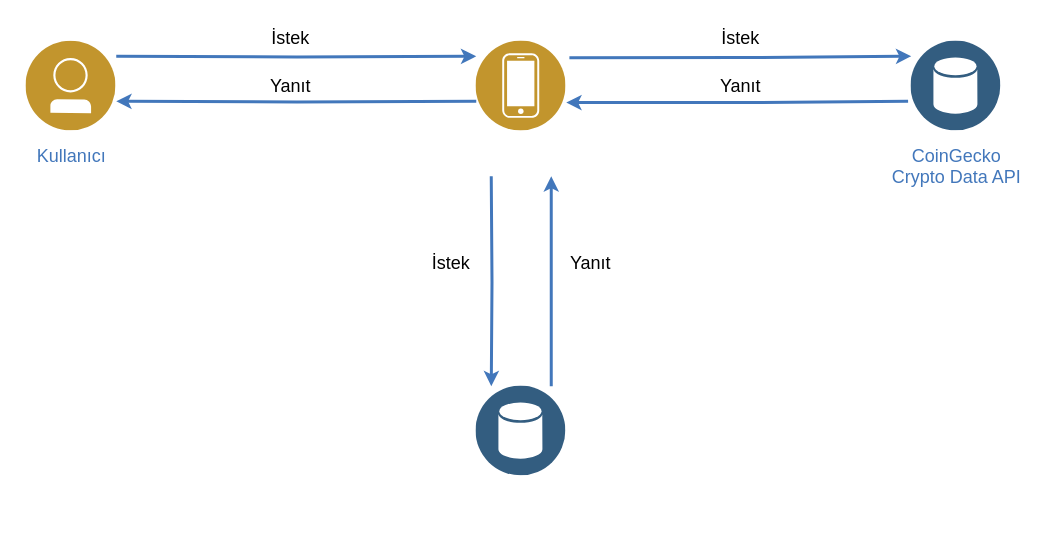
Image size: 1046x537. Some labels were removed from this diagram. The centre of each missing label's shape, as x and y in pixels:
"Mobil Uygulama" belongs at [521,85].
"Veri Tabanı" belongs at [521,431].
